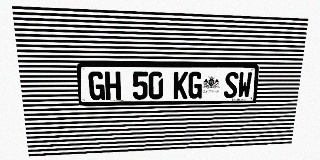0: (148, 71, 163, 99)
5: (133, 71, 148, 100)
G: (88, 71, 105, 100), (188, 72, 203, 99)
H: (105, 71, 121, 100)
K: (173, 72, 188, 99)
S: (224, 72, 239, 98)
W: (237, 72, 252, 98)
